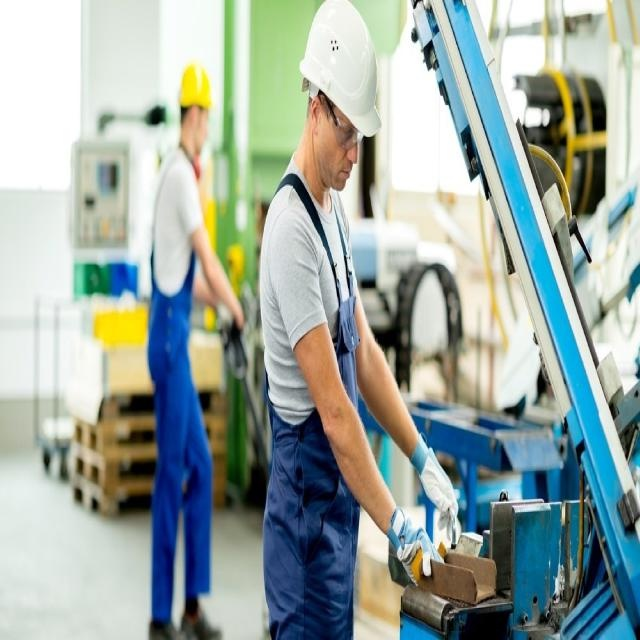Con_Casco: (299, 0, 383, 188), (178, 58, 210, 154)
